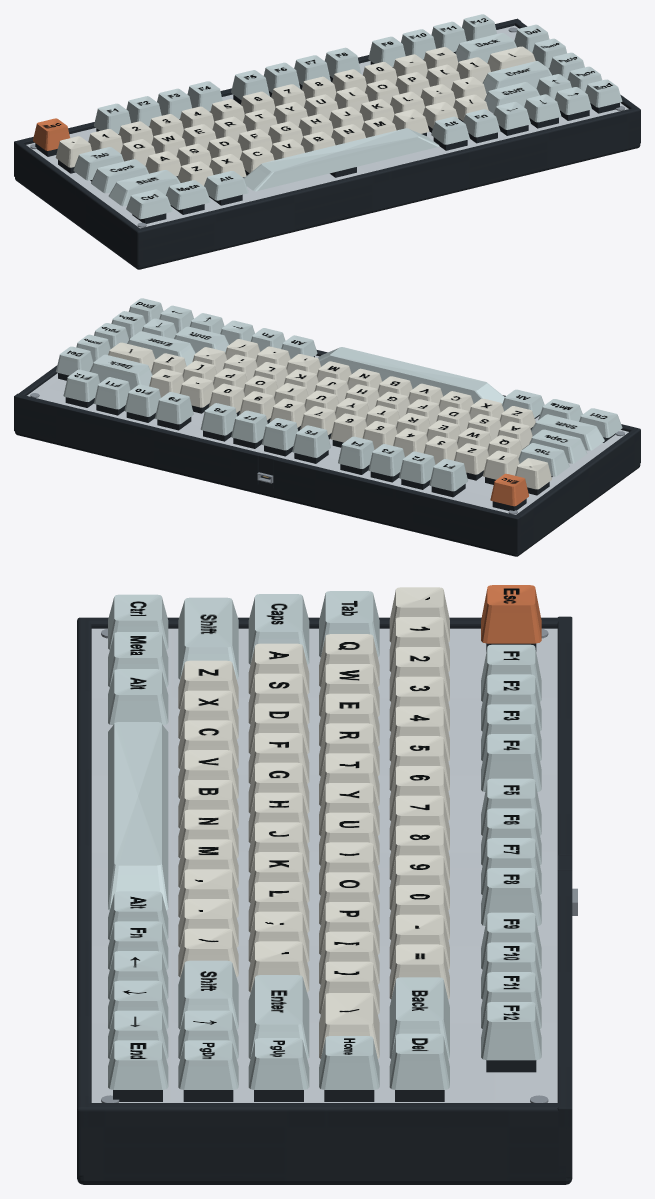
File: innerscene-75-case.glb
The picture shows the model from 3 angles, top to bottom: view 1: azimuth 30°, elevation 25°; view 2: azimuth 150°, elevation 25°; view 3: azimuth 270°, elevation 25°; orthographic projection. The views are drawn at different scales.
Parts seen in each view (by area): view 1: Front case wall, Closed lower case, Keycap 58 Space, Switch mounting plate, Side case wall, Keycap 42 Shift, Keycap 41 Enter, Keycap 14 Back, Keycap 29 Caps, Keycap 55 Ctrl, Keycap 56 Meta, Keycap 57 Alt (+74 smaller); view 2: Rear case wall beside USB, Rear case wall beside USB.001, Closed lower case, Switch mounting plate, Side case wall, Keycap 58 Space, Keycap 14 Back, Keycap 42 Shift, Keycap 41 Enter, Keycap 29 Caps, Keycap 65 F1, Keycap 73 F9 (+74 smaller); view 3: Switch mounting plate, Side case wall.001, Keycap 58 Space, Closed lower case, Front case wall, Rear case wall beside USB.001, Keycap 41 Enter, Keycap 42 Shift, Rear case wall beside USB, Keycap 14 Back, Keycap 64 Esc, Keycap 76 F12 (+76 smaller).
Part boxes in pixels (bbox=[...]): Front case wall: bbox=[134, 107, 640, 265]; Closed lower case: bbox=[15, 143, 640, 269]; Keycap 58 Space: bbox=[244, 128, 439, 191]; Switch mounting plate: bbox=[26, 25, 628, 228]; Side case wall: bbox=[17, 142, 142, 266]; Keycap 42 Shift: bbox=[108, 170, 180, 206]; Keycap 41 Enter: bbox=[482, 61, 551, 93]; Keycap 14 Back: bbox=[455, 33, 516, 62]; Keycap 29 Caps: bbox=[91, 159, 148, 193]; Keycap 55 Ctrl: bbox=[126, 189, 172, 219]; Keycap 56 Meta: bbox=[166, 180, 210, 209]; Keycap 57 Alt: bbox=[204, 171, 248, 200]; Rear case wall beside USB: bbox=[273, 457, 521, 553]; Rear case wall beside USB.001: bbox=[14, 393, 261, 487]; Closed lower case: bbox=[15, 428, 640, 556]; Switch mounting plate: bbox=[27, 355, 628, 514]; Side case wall: bbox=[515, 428, 640, 550]; Keycap 58 Space: bbox=[318, 347, 504, 404]; Keycap 14 Back: bbox=[89, 354, 152, 389]; Keycap 42 Shift: bbox=[531, 414, 604, 450]; Keycap 41 Enter: bbox=[127, 331, 195, 365]; Keycap 29 Caps: bbox=[529, 429, 587, 463]; Keycap 65 F1: bbox=[429, 459, 467, 491]; Keycap 73 F9: bbox=[155, 392, 193, 424]; Switch mounting plate: bbox=[91, 628, 557, 1102]; Side case wall.001: bbox=[77, 1103, 568, 1177]; Keycap 58 Space: bbox=[108, 722, 168, 910]; Closed lower case: bbox=[77, 1166, 572, 1184]; Front case wall: bbox=[77, 617, 91, 1176]; Rear case wall beside USB.001: bbox=[557, 870, 572, 1178]; Keycap 41 Enter: bbox=[248, 975, 309, 1059]; Keycap 42 Shift: bbox=[178, 597, 238, 679]; Rear case wall beside USB: bbox=[557, 616, 572, 854]; Keycap 14 Back: bbox=[389, 977, 449, 1058]; Keycap 64 Esc: bbox=[481, 585, 541, 643]; Keycap 76 F12: bbox=[481, 1002, 541, 1060].
Size of the model in its own units: 0.3148 by 0.0376 by 0.1355.
7 materials, 7 textured.
